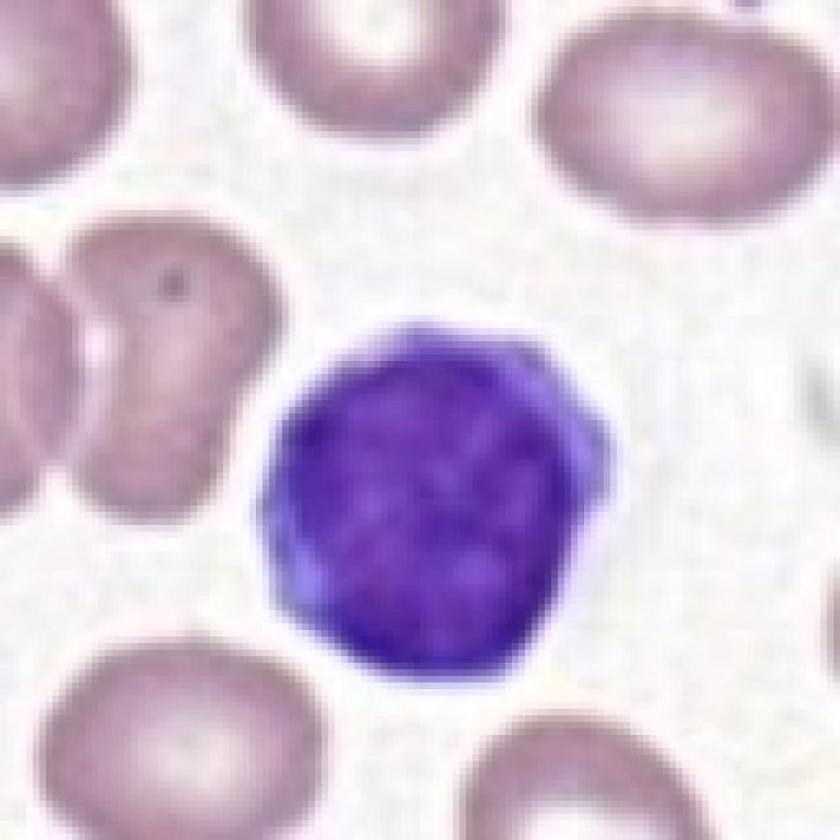lymphocyte: (253, 317, 624, 690)
